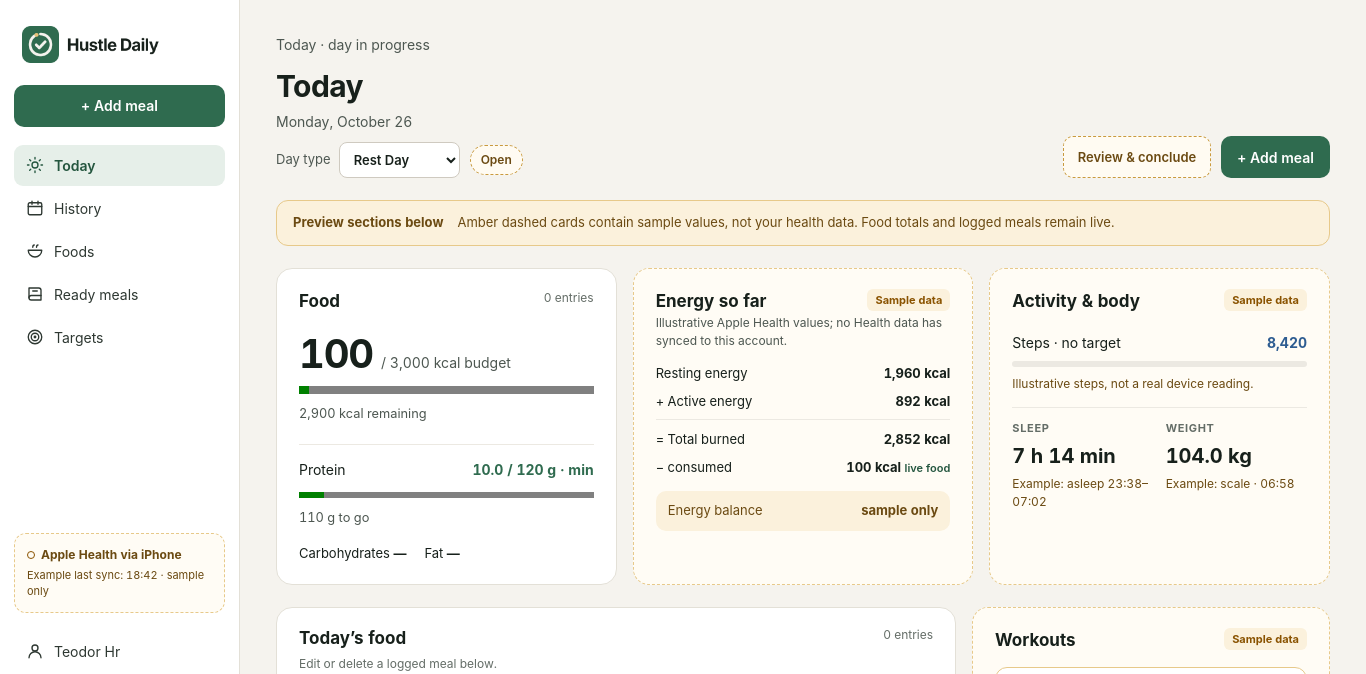
Test case: restores the previous day type when saving fails
Step 1. Select "Training Day" in the dropdown labelled "Day type" → (399, 160), box [339,142,460,178]
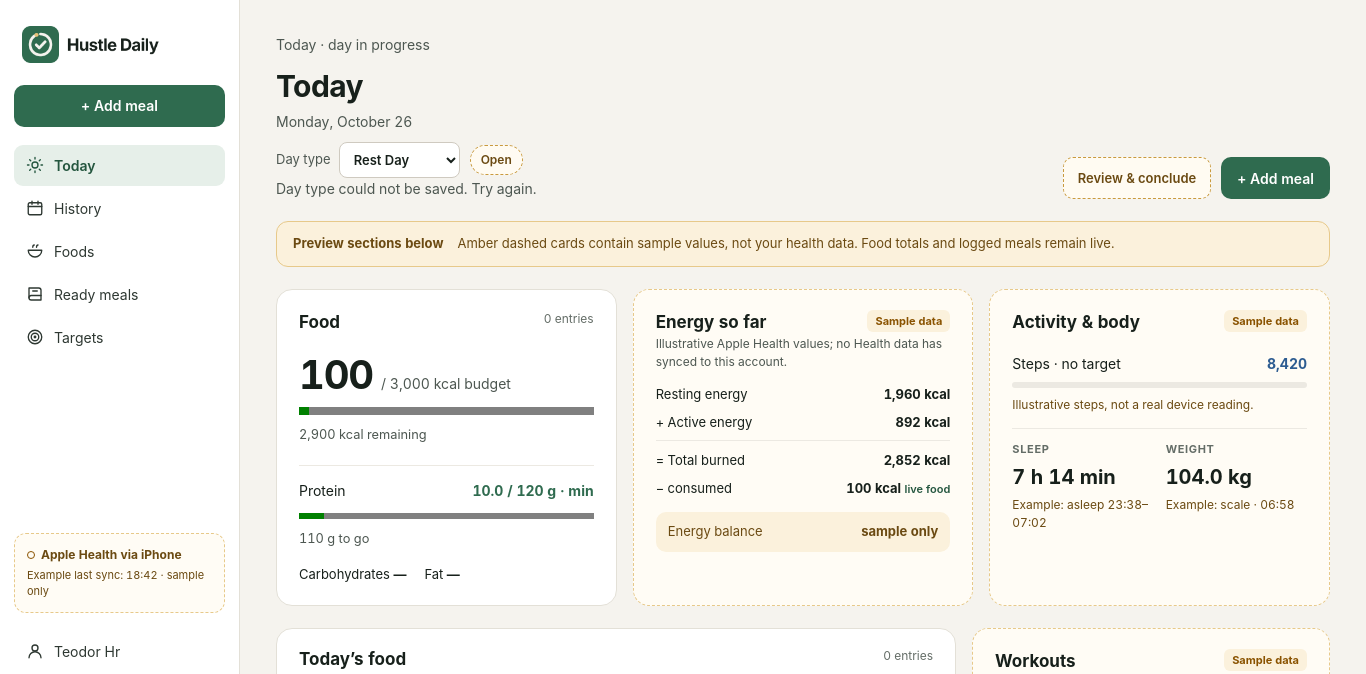
Expected: the message shows "Day type could not be saved", [276,180,536,197]
